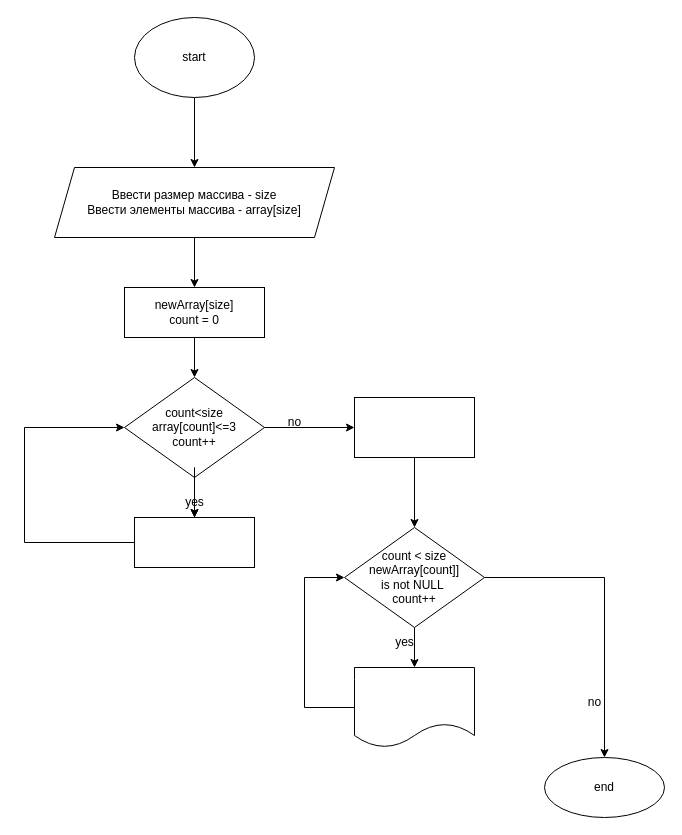
Image size: 682x835. Some labels were removed from this diagram. Here are the shapes that lost their labels. From the top down, the centre of each, then its label:
At point (414, 427): "count = 0".
At point (194, 542): "newArray[count]= array[count]".
At point (414, 707): "newArray[count]".
